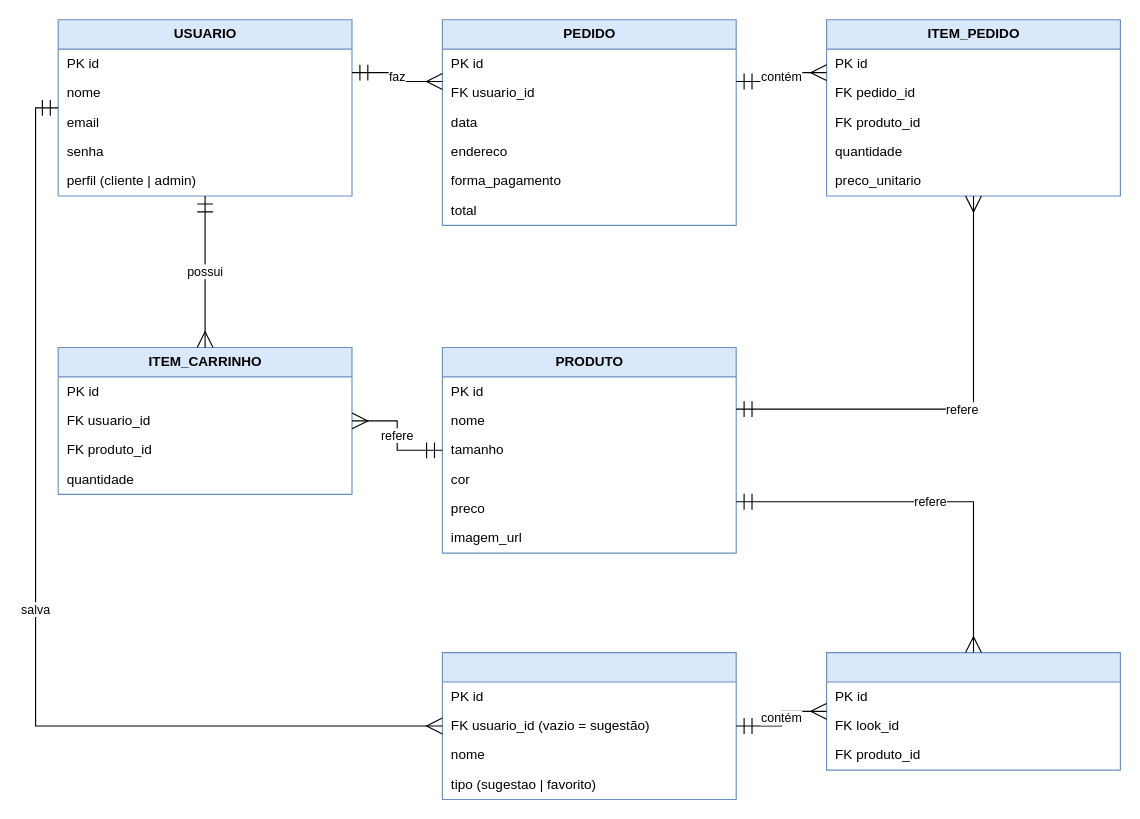
The diagram is 1140 pixels wide and 819 high, and some of its shapes have lost their labels. The shapes that lost their labels are listed below. From the top down, each one's box as (x1, y1, x2, y2) in pixels, then its label:
(441, 651, 736, 799): LOOK
(825, 651, 1120, 770): LOOK_ITEM
